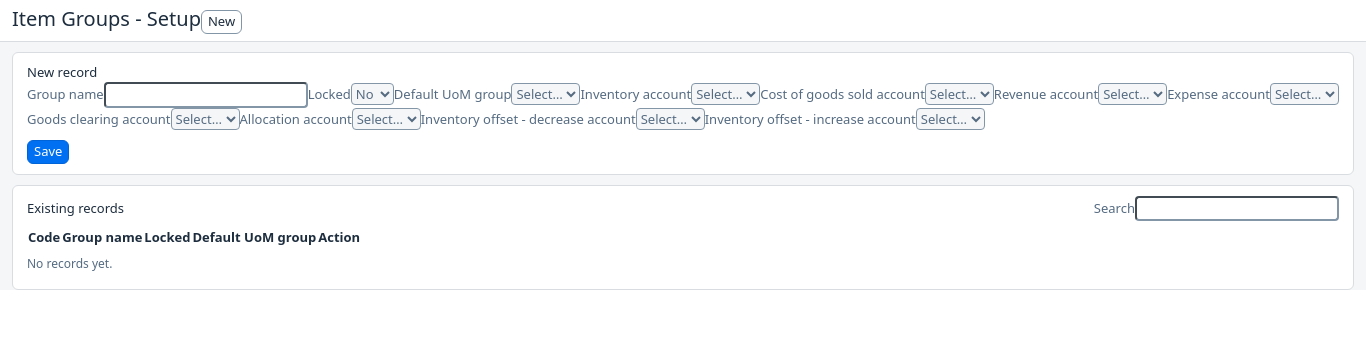
it: item group form saves to the existing setup endpoint
Expected: the text "No records yet." is shown, [27, 255, 112, 272]
In the field labelled "Group name": (206, 95) [104, 82, 308, 108], type "Finished Goods"
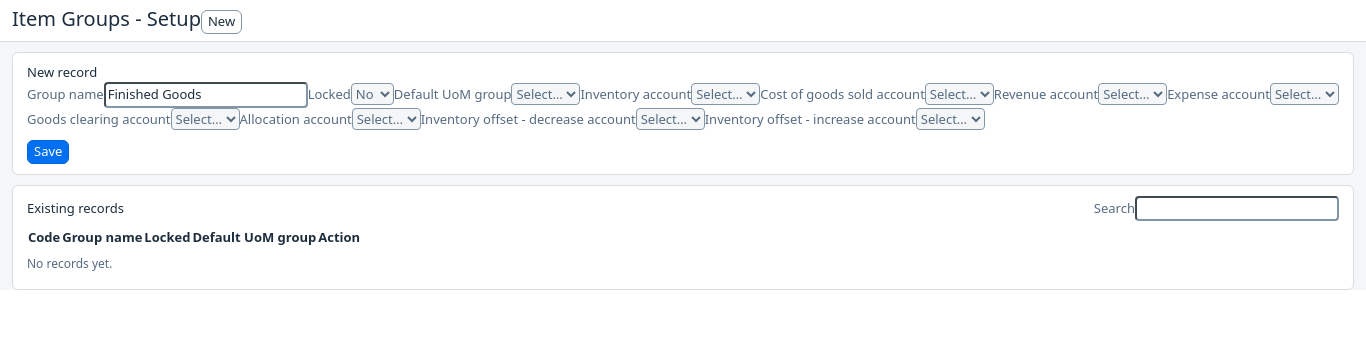
Click the button "Save": (48, 152) [27, 140, 69, 164]
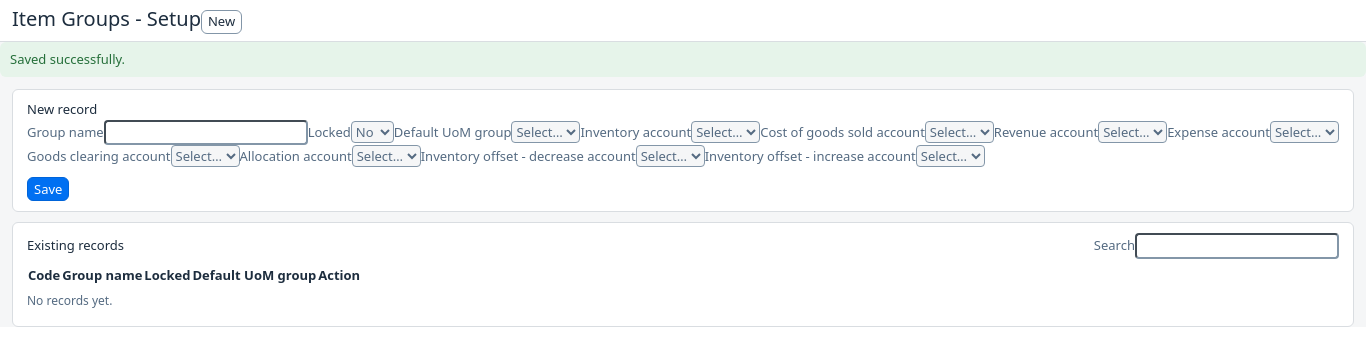
Result: the text "Saved successfully." is shown at [0, 42, 1365, 77]
